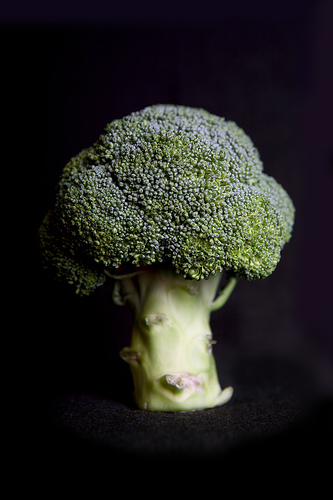broccoli: (38, 105, 292, 415)
